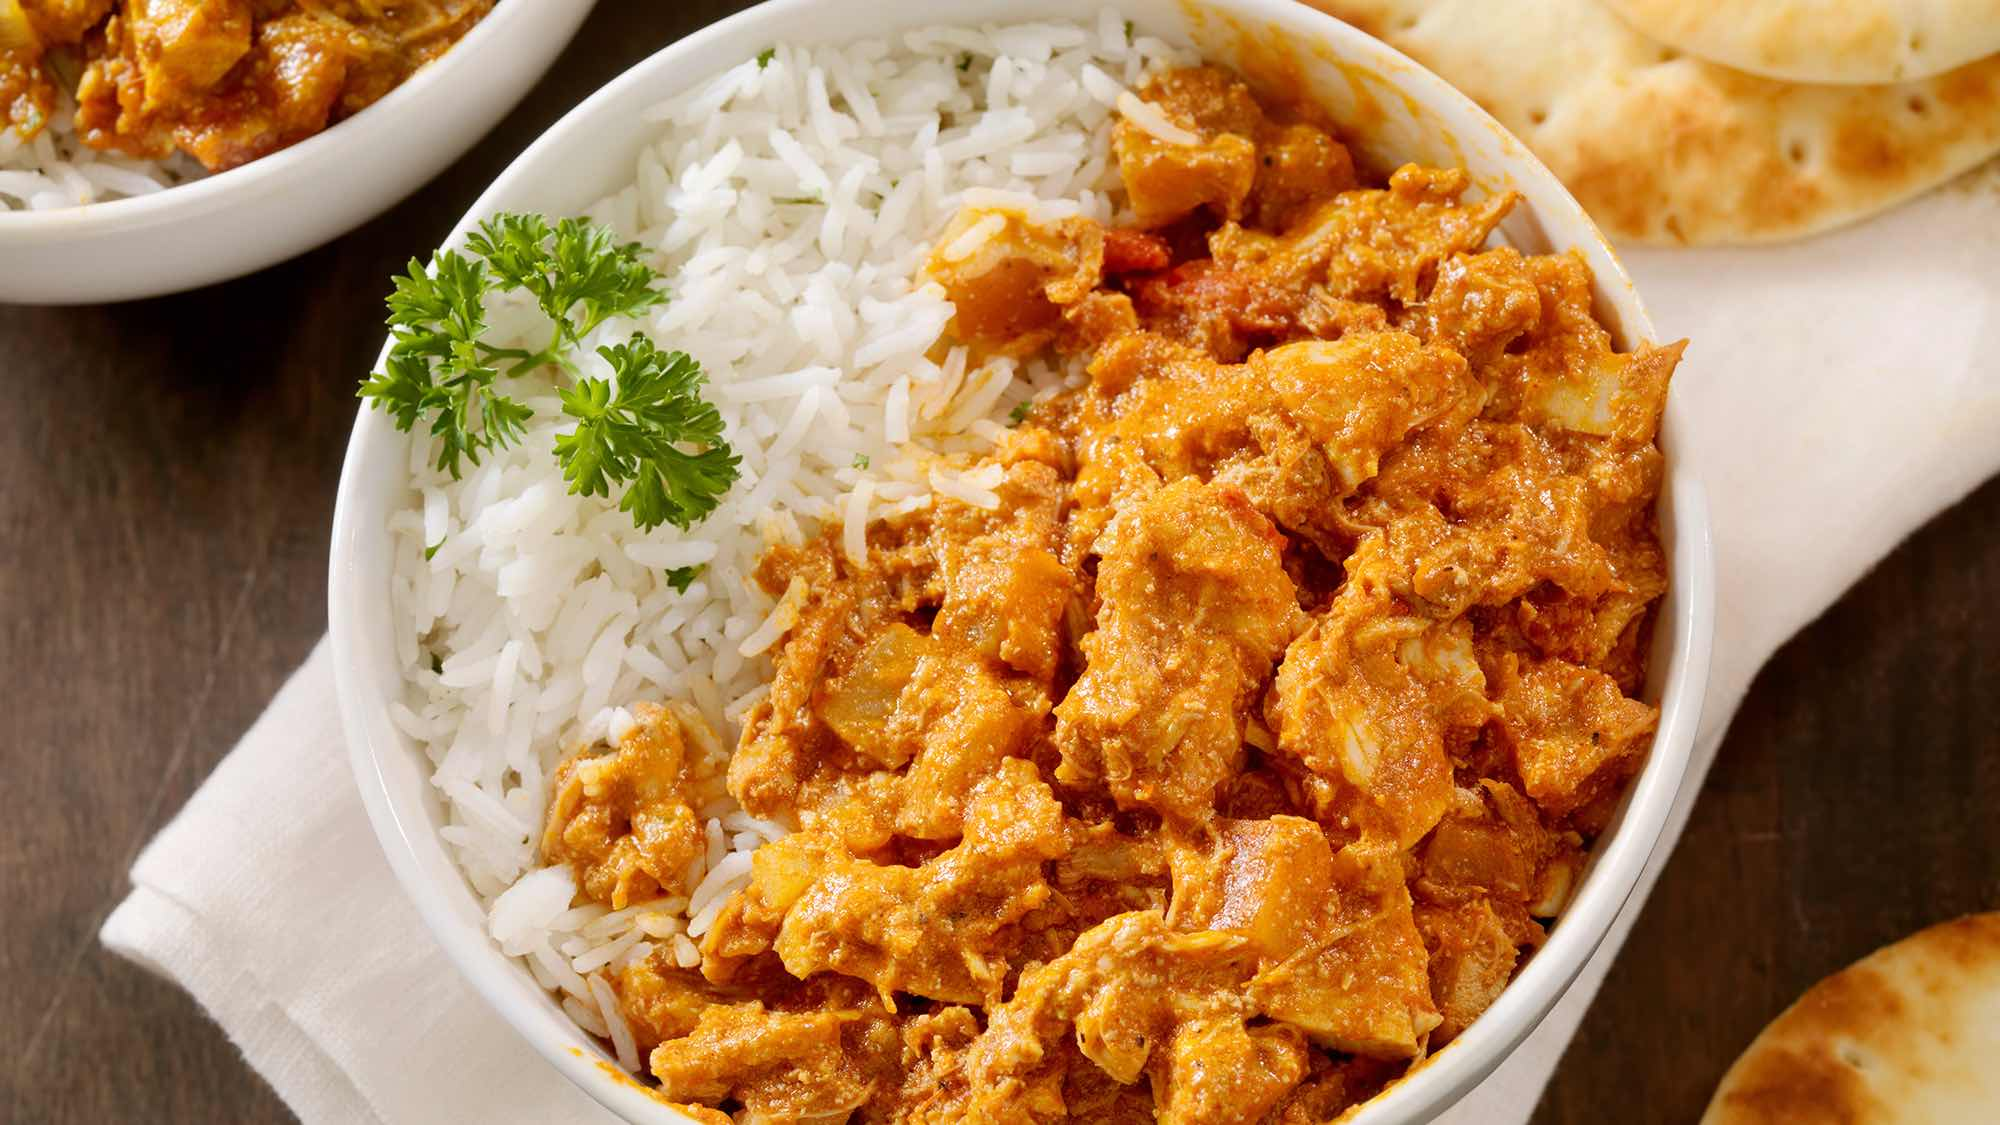chicken_curry: (808, 168, 1679, 1125)
